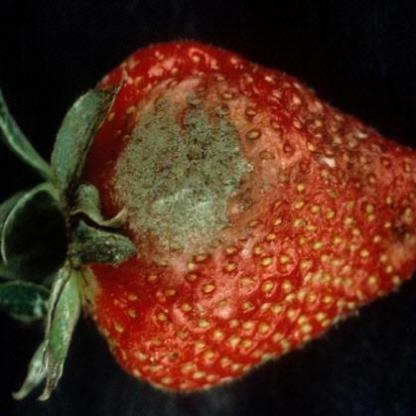Strawberry_Gray_Mold: (104, 74, 320, 294)
